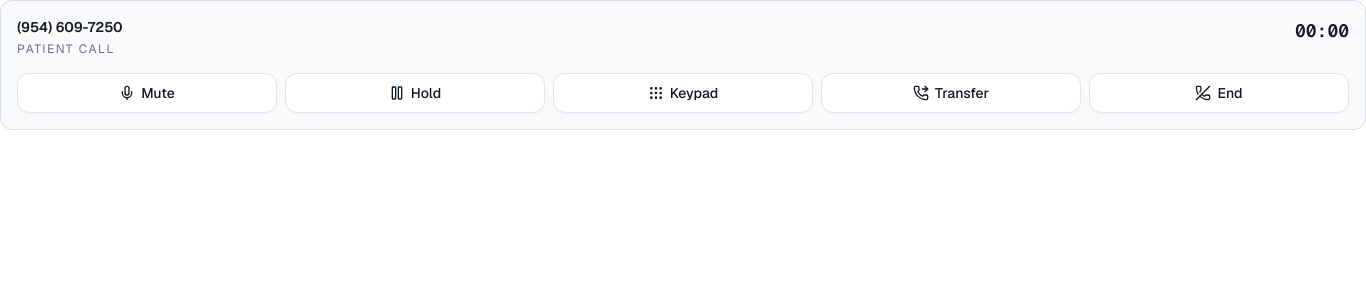
Scenario: CanonicalActiveCall › rings one available staff member while keeping the caller connected
Click the button "Transfer".
click(951, 93)  # box [821,73,1081,113]
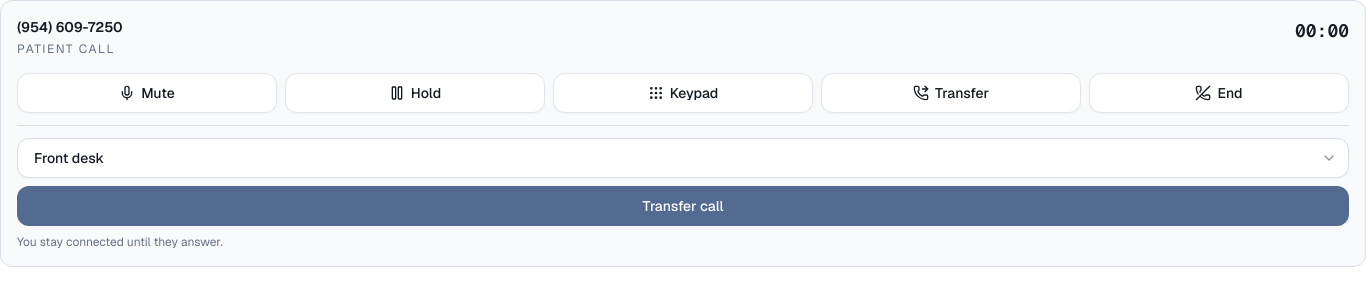
Expected: the text "You stay connected until they answer." is shown, [17,234,223,250]
Click the button "Transfer call".
click(683, 206)  # box [17,186,1349,226]
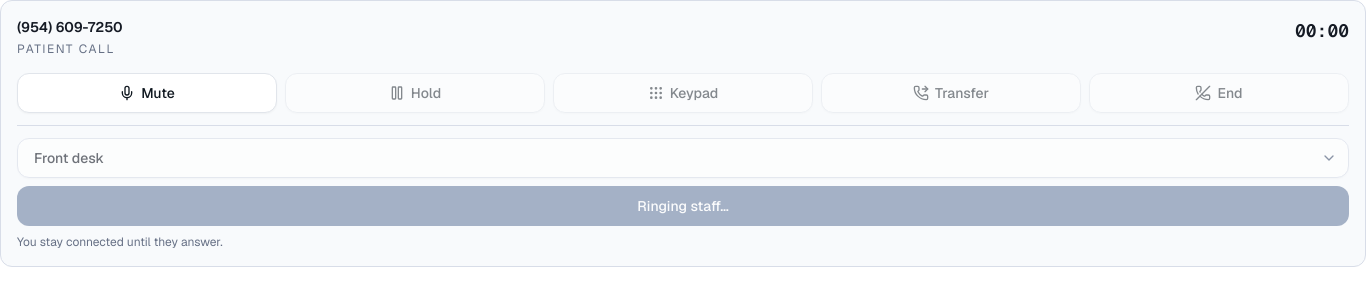
Expected: the button "Ringing staff…" is shown, [17,186,1349,226]
Expected: the button "End" is disabled, [1089,73,1349,113]
